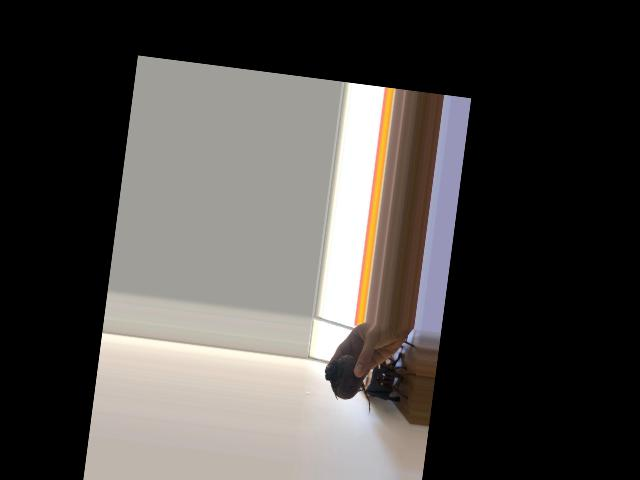beet: (320, 352, 376, 415)
